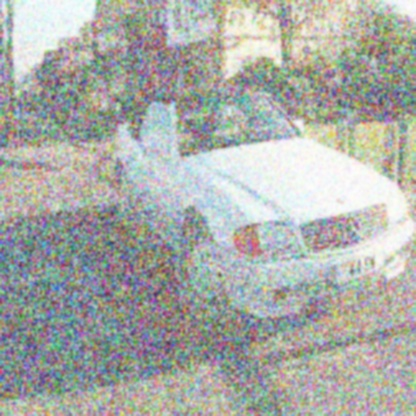Vehicle: (111, 77, 414, 335)
